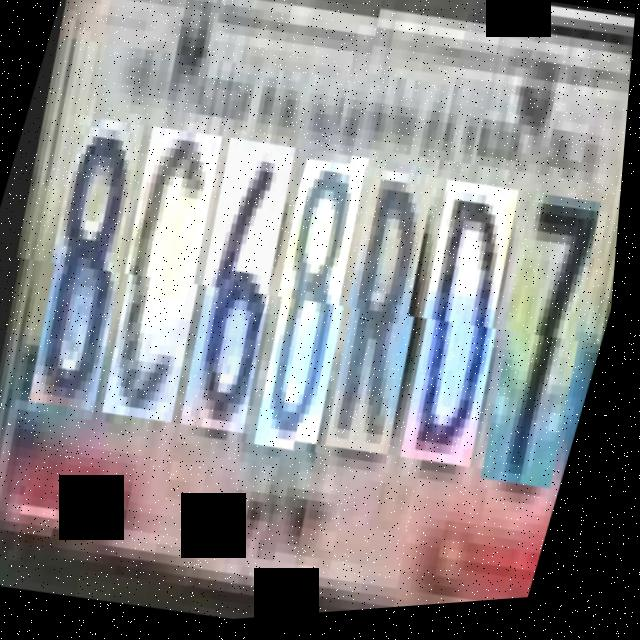6: (157, 137, 321, 441)
7: (457, 204, 625, 509)
8: (4, 112, 169, 416), (233, 158, 393, 462)
C: (78, 124, 248, 429)
D: (376, 190, 543, 487)
R: (302, 169, 462, 473)
